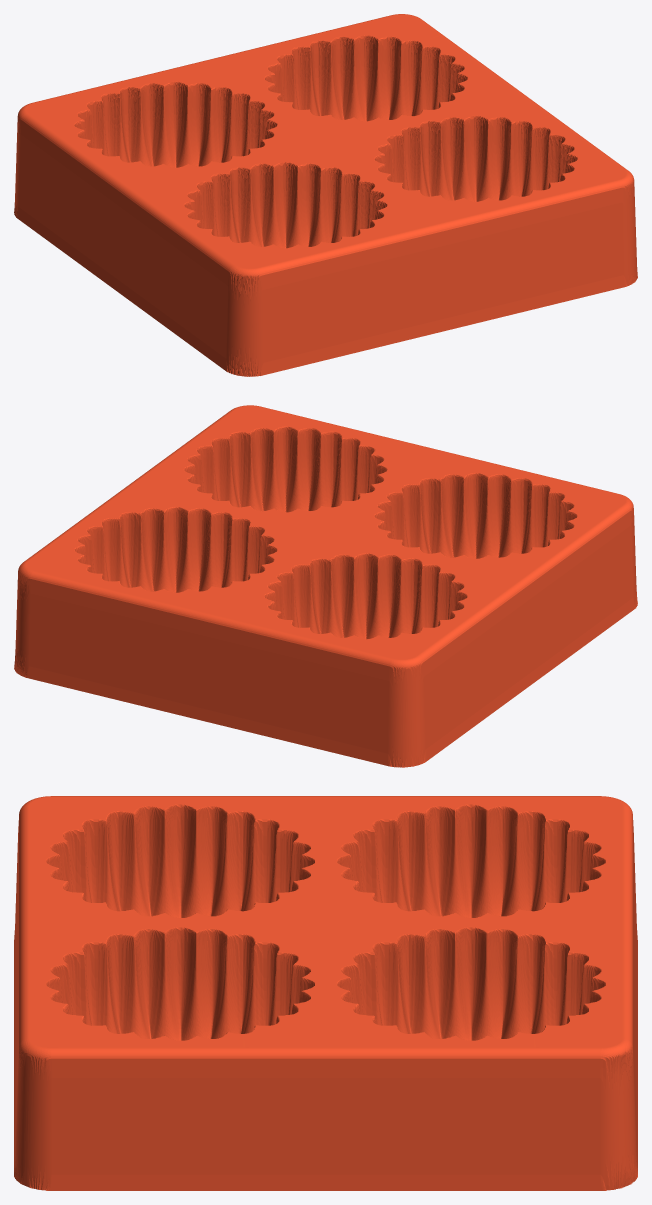
The model's file is mold.glb.
3 views of the same model, one above another, from view 1: azimuth 30°, elevation 25°; view 2: azimuth 150°, elevation 25°; view 3: azimuth 270°, elevation 25° (orthographic). The views are drawn at different scales.
Visible parts, largest first — view 1: geometry_0; view 2: geometry_0; view 3: geometry_0.
Part boxes in pixels (<box>): geometry_0: <box>14,14,637,376</box>; geometry_0: <box>14,405,637,767</box>; geometry_0: <box>14,796,637,1190</box>.
Size of the model in its own units: 0.1493 by 0.036 by 0.1493.
